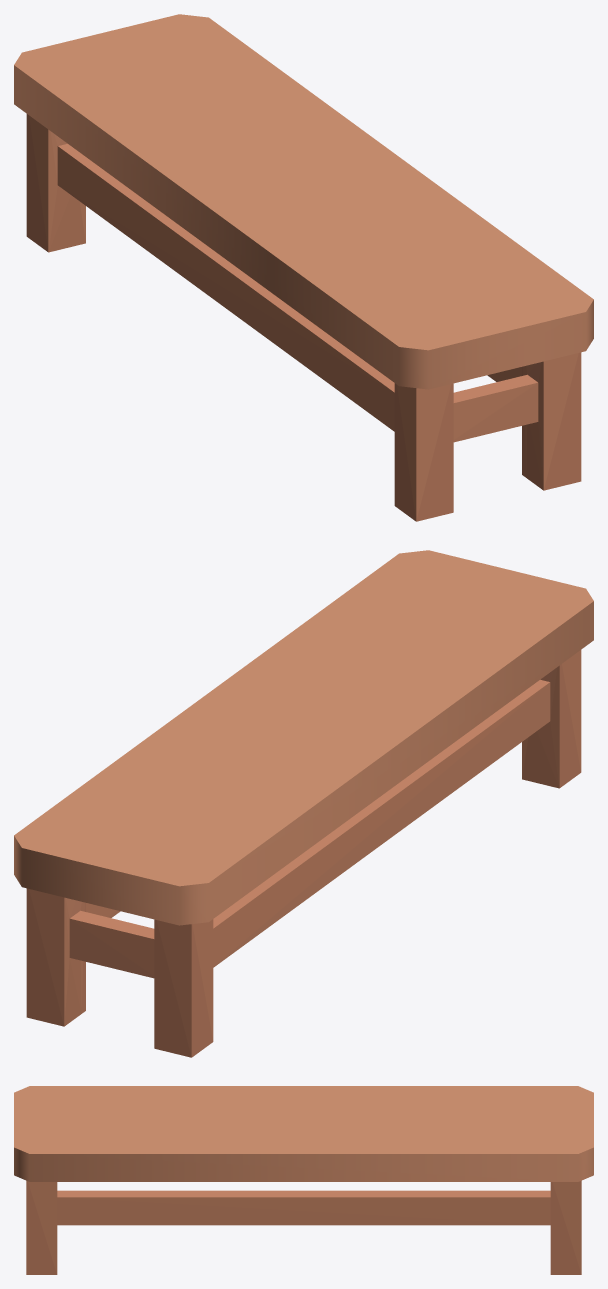
The model's file is kenney_town_stall_bench.glb.
3 renders of one model, top to bottom at view 1: azimuth 30°, elevation 25°; view 2: azimuth 150°, elevation 25°; view 3: azimuth 270°, elevation 25°, orthographic. The views are drawn at different scales.
Parts seen in each view (by area): view 1: wood; view 2: wood; view 3: wood.
Part boxes in pixels (x1,y1,x2,y2): wood: [14, 14, 593, 521]; wood: [14, 550, 593, 1057]; wood: [14, 1086, 593, 1274].
Bounding box in the file's own units: 0.26 × 0.2255 × 0.94.
